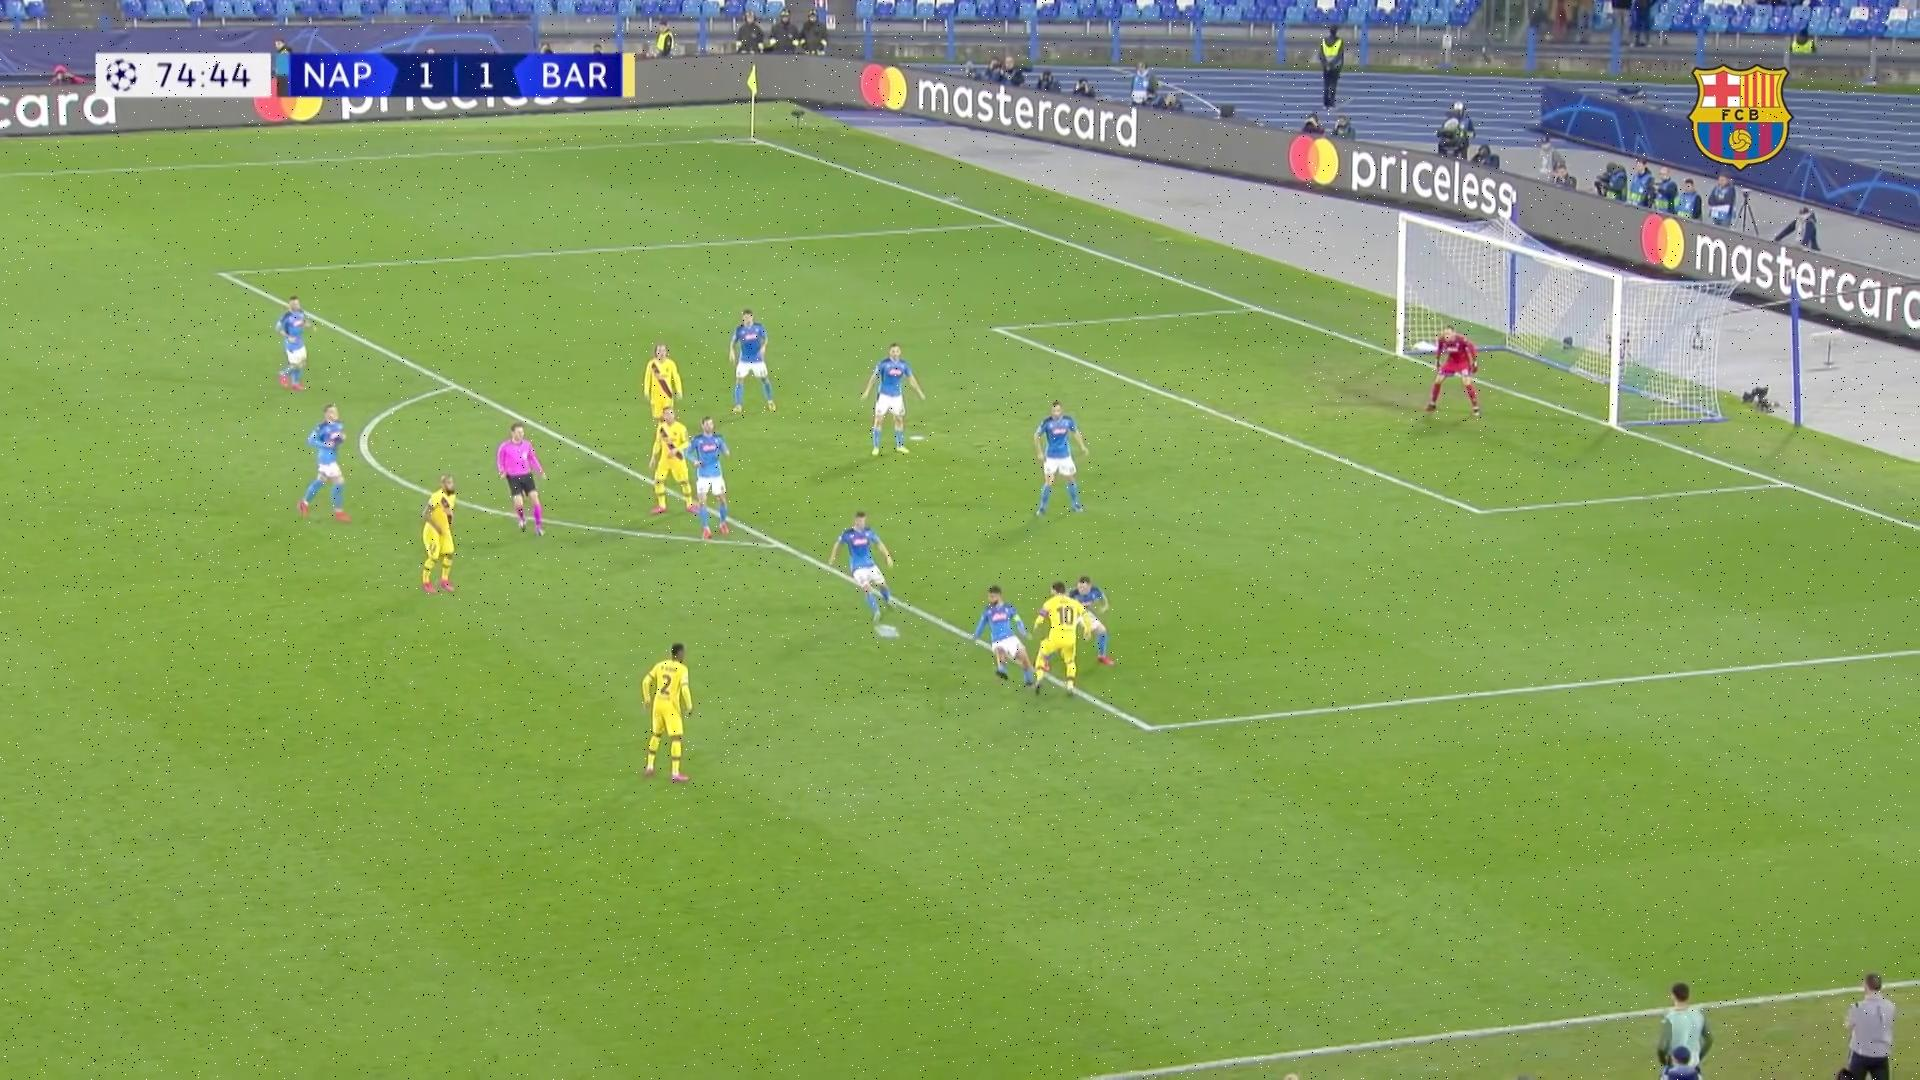ball: (875, 622, 900, 642)
